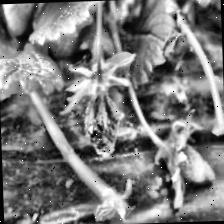Gray Mold: (58, 46, 138, 158), (152, 108, 216, 210)
